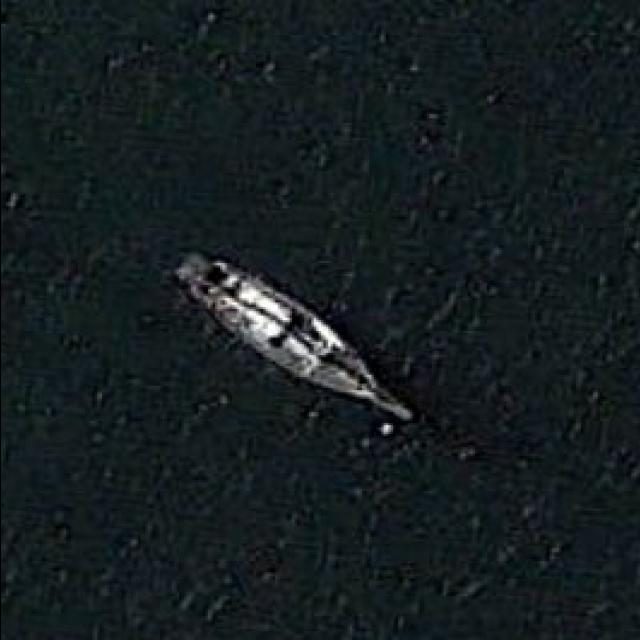ship: (175, 247, 418, 418)
